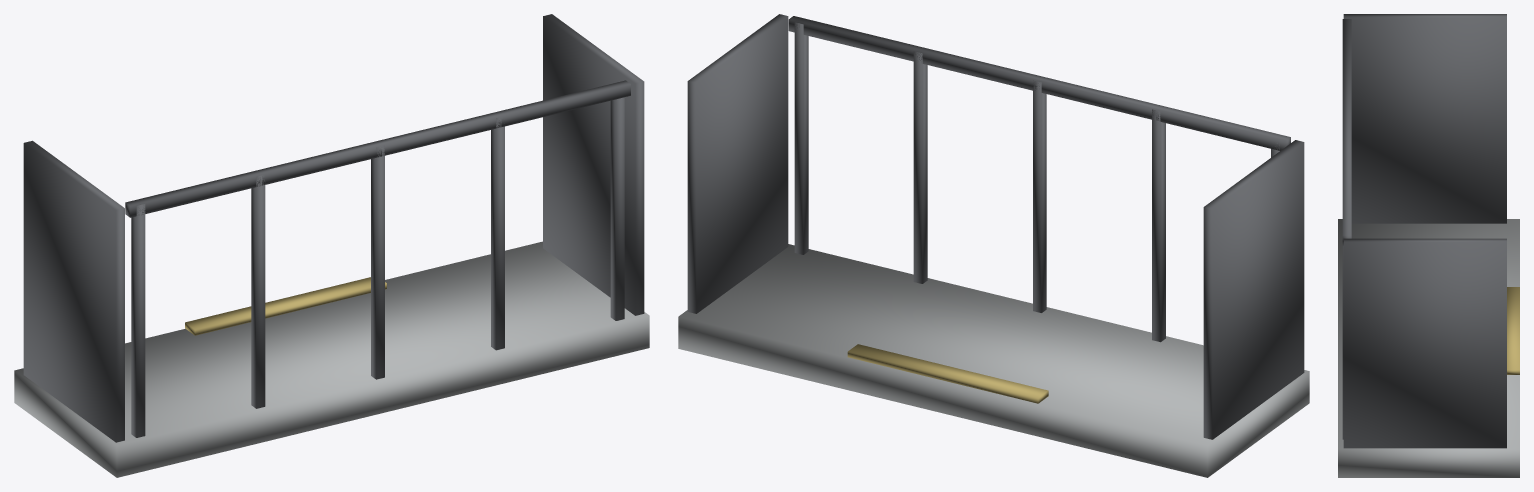
The model's file is steel_w240_d80_door.glb.
The picture shows the model from 3 angles, left to right: view 1: azimuth 30°, elevation 25°; view 2: azimuth 150°, elevation 25°; view 3: azimuth 270°, elevation 25°; orthographic projection. The views are drawn at different scales.
Visible parts, largest first — view 1: world; view 2: world; view 3: world.
Part boxes in pixels (x1,y1,x2,y2): world: (14,14,649,477); world: (678,14,1309,477); world: (1338,14,1519,477).
Bounding box in the file's own units: 2.4 × 1.14 × 0.8.
